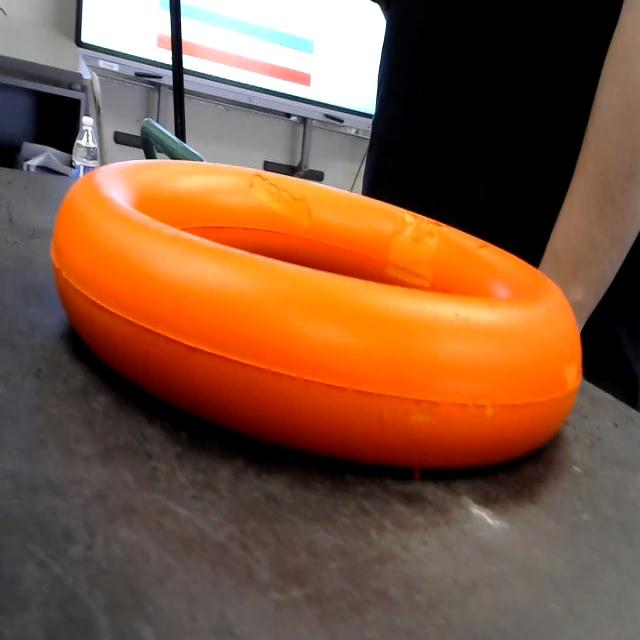note: (48, 125, 589, 496)
